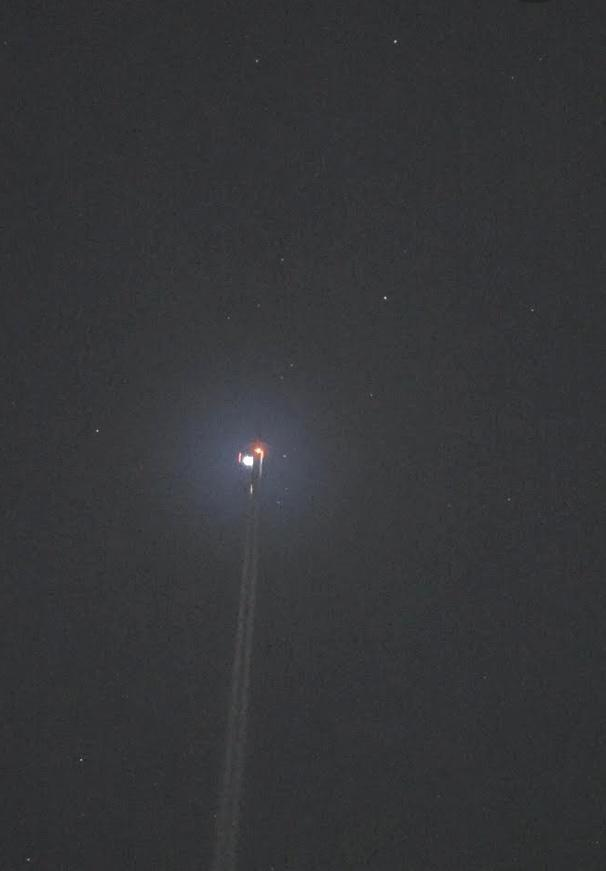Plane: (206, 413, 287, 792)
